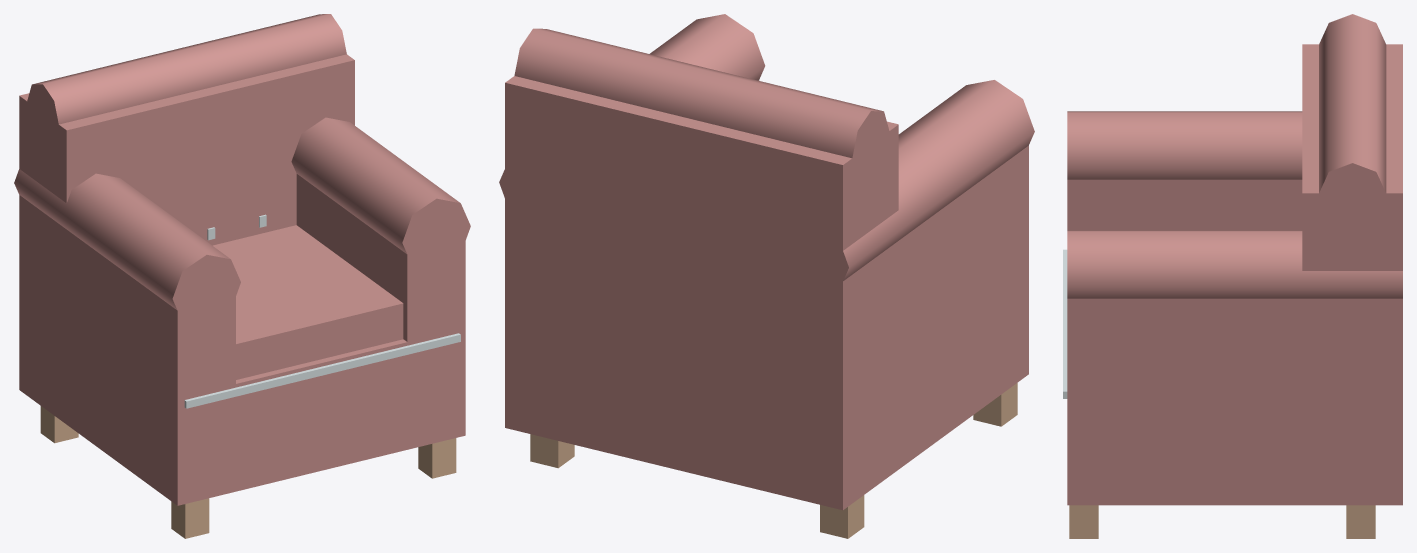
The model's file is armchairClub.glb.
The picture shows the model from 3 angles, left to right: view 1: azimuth 30°, elevation 25°; view 2: azimuth 150°, elevation 25°; view 3: azimuth 270°, elevation 25°; orthographic projection. The views are drawn at different scales.
Parts seen in each view (by area): view 1: armchairClub; view 2: armchairClub; view 3: armchairClub.
Boxes of the visible parts, x1,y1,x2,y2 form: armchairClub: (14, 14, 470, 538); armchairClub: (499, 14, 1034, 538); armchairClub: (1063, 14, 1402, 538).
Size of the model in its own units: 0.435 by 0.5 by 0.405.
